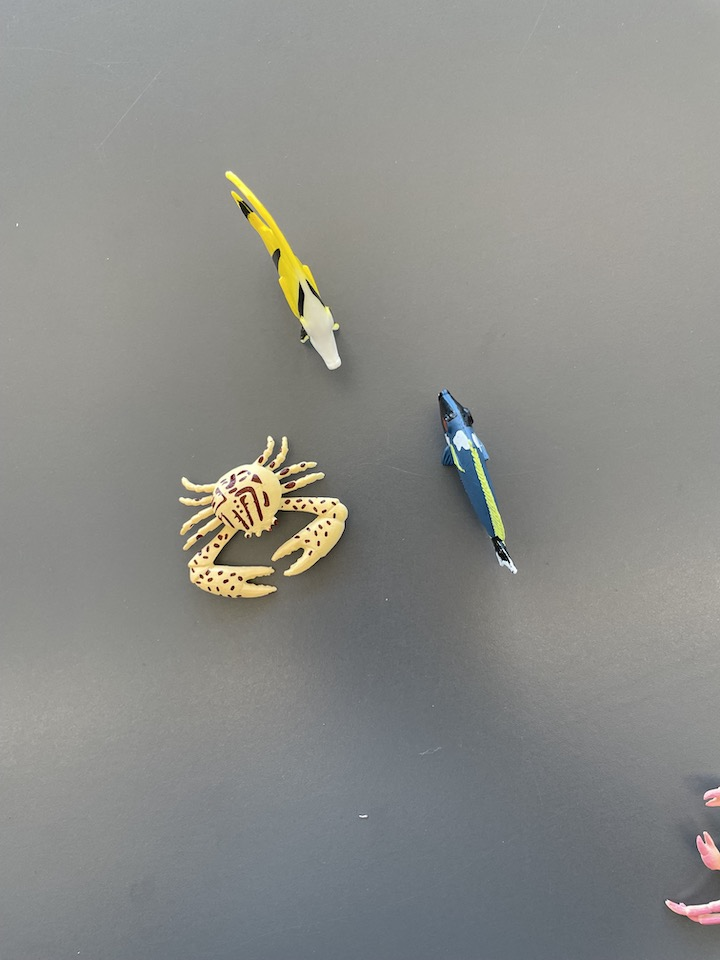crab: (174, 432, 353, 607), (659, 779, 720, 933)
danger: (220, 167, 349, 377)
fish: (427, 386, 531, 585)
